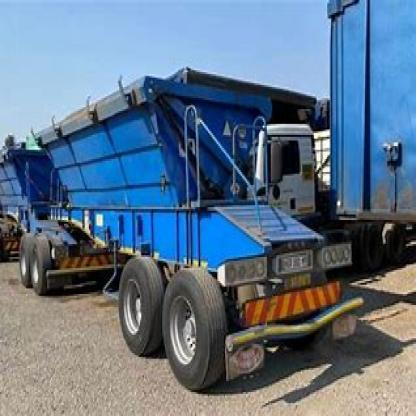dump_truck: (8, 65, 367, 370)
